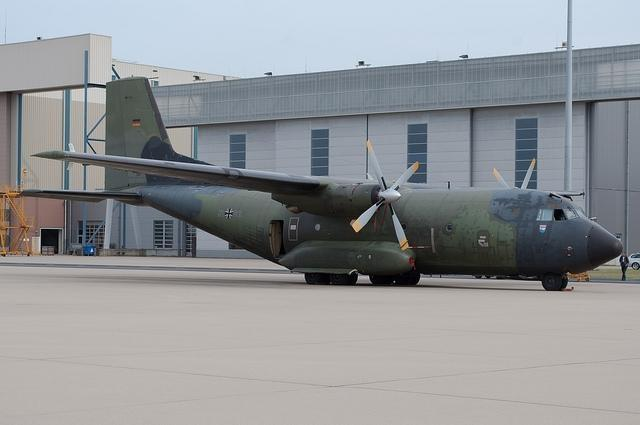car: (627, 251, 640, 271)
